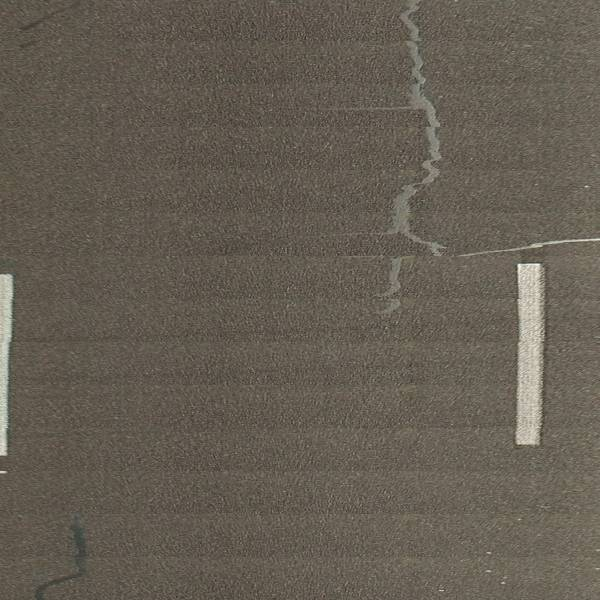road_damage: (376, 1, 446, 316), (31, 509, 94, 600), (454, 234, 600, 260)
